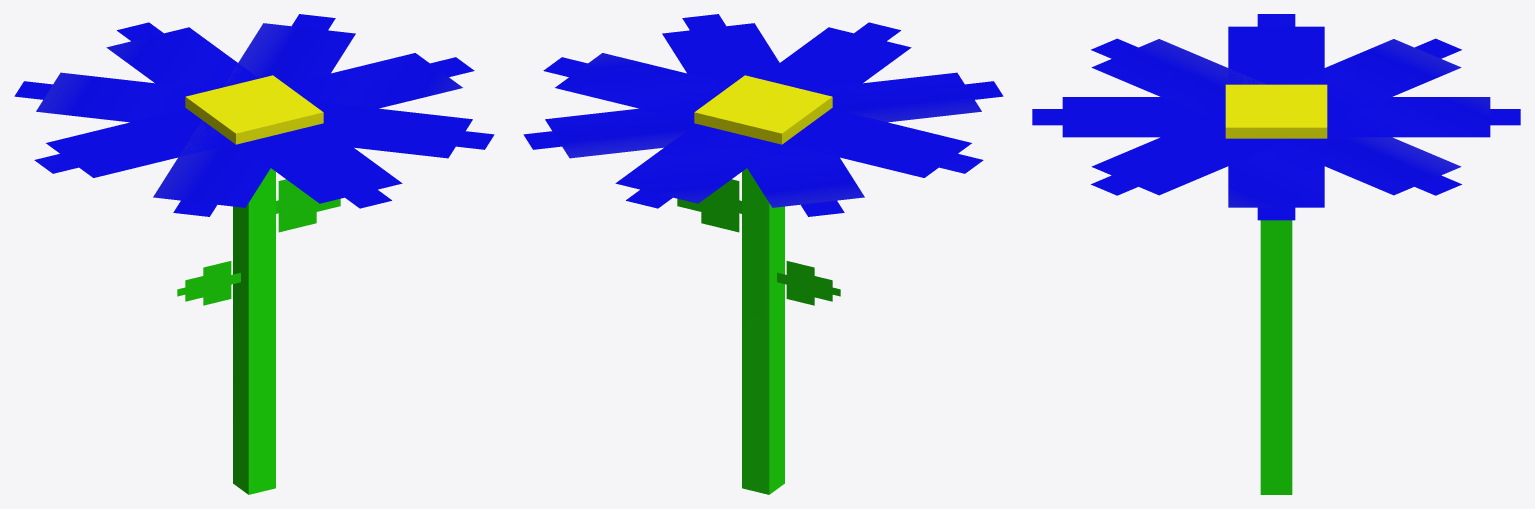
File: flower2.glb
The picture shows the model from 3 angles, left to right: view 1: azimuth 30°, elevation 25°; view 2: azimuth 150°, elevation 25°; view 3: azimuth 270°, elevation 25°; orthographic projection.
Parts seen in each view (by area): view 1: geometry_0; view 2: geometry_0; view 3: geometry_0.
Boxes of the visible parts, bbox=[...] form: geometry_0: bbox=[14, 14, 494, 494]; geometry_0: bbox=[523, 14, 1003, 494]; geometry_0: bbox=[1032, 14, 1520, 494].
Bounding box in the file's own units: 0.7122 × 0.6152 × 0.7122.
Materials: 1 (1 with a texture image).
